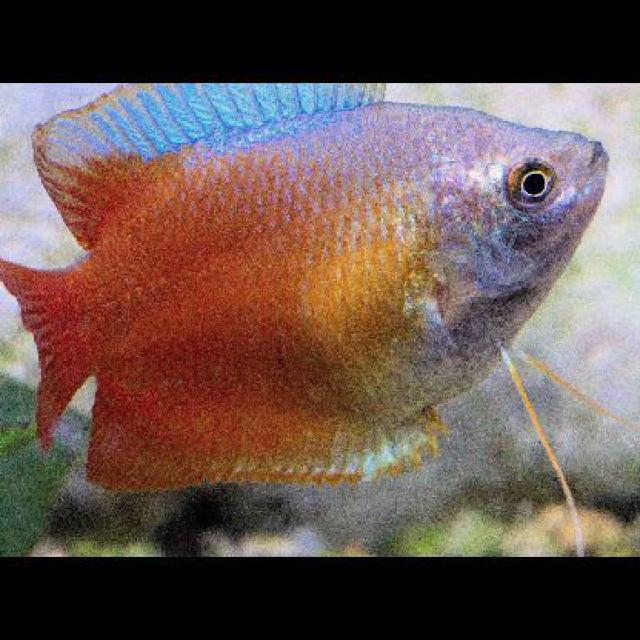Gourami: (0, 80, 614, 491)
